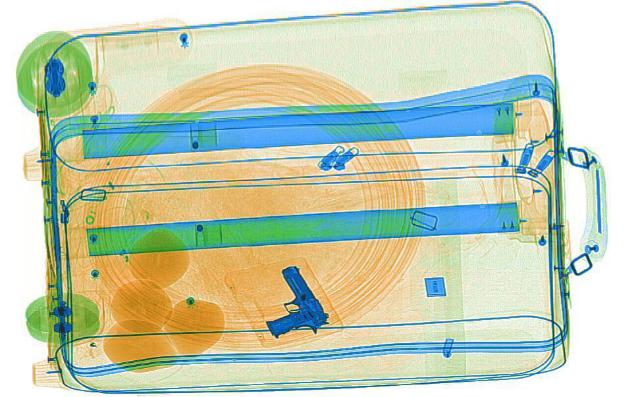Gun: (238, 261, 336, 341)
